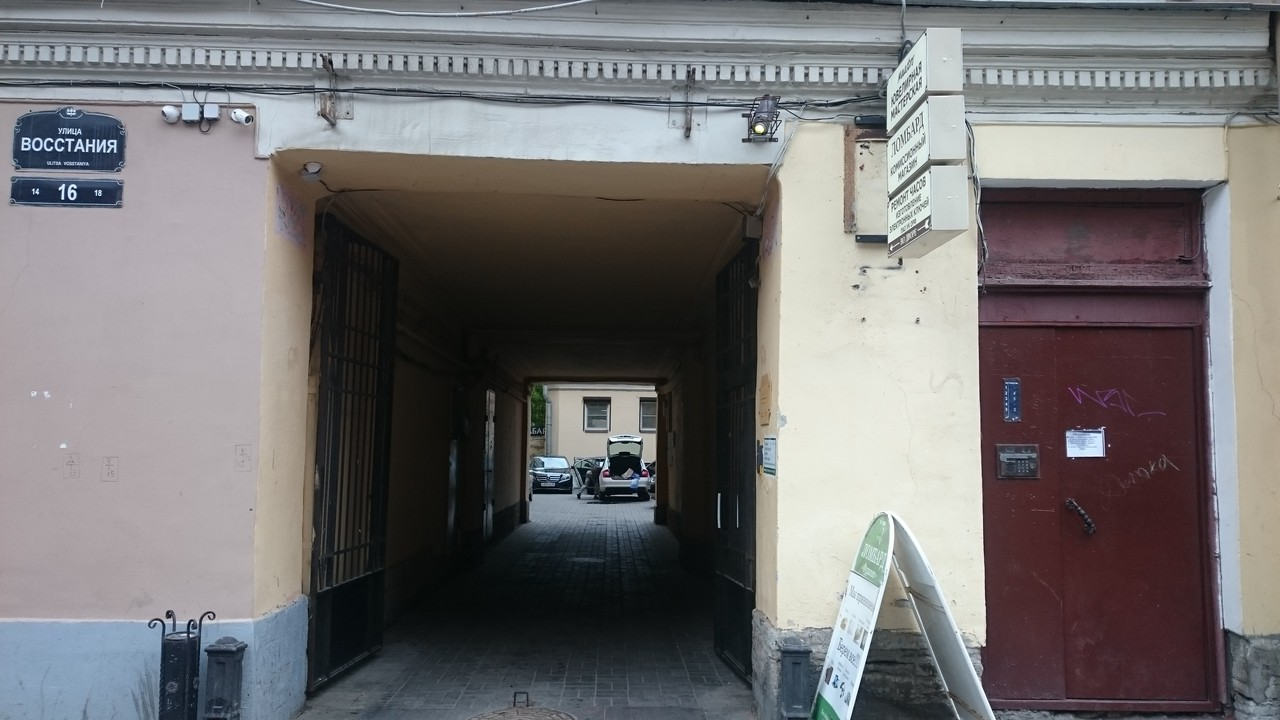arch: (258, 148, 774, 720)
cantilever: (849, 22, 968, 264)
door: (980, 324, 1213, 702)
